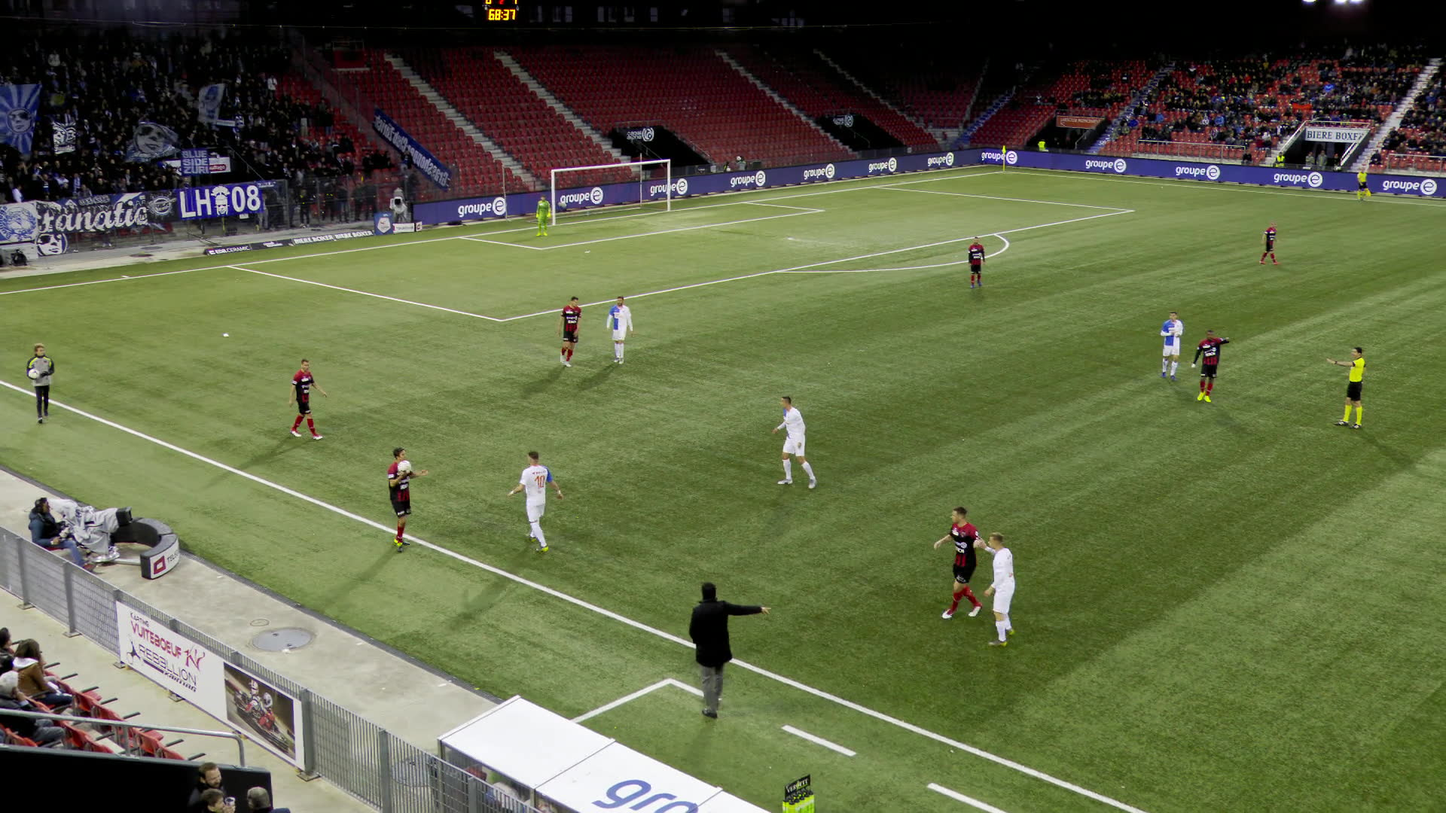ball: (399, 459, 413, 473), (32, 369, 42, 379)
player: (928, 507, 984, 620), (975, 532, 1023, 649), (508, 449, 561, 551), (386, 448, 427, 552), (772, 395, 817, 489), (1191, 328, 1232, 403), (289, 358, 326, 440), (606, 294, 636, 367), (555, 295, 583, 367), (1159, 309, 1184, 382), (1258, 220, 1280, 266), (967, 236, 986, 288), (535, 194, 552, 237)
referee: (1325, 346, 1368, 429), (1356, 167, 1368, 202)
